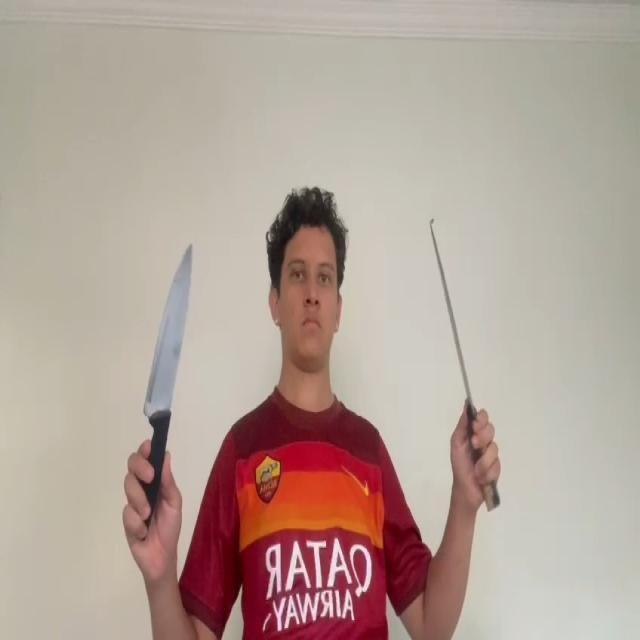knife: (144, 244, 192, 412), (431, 224, 474, 408)
